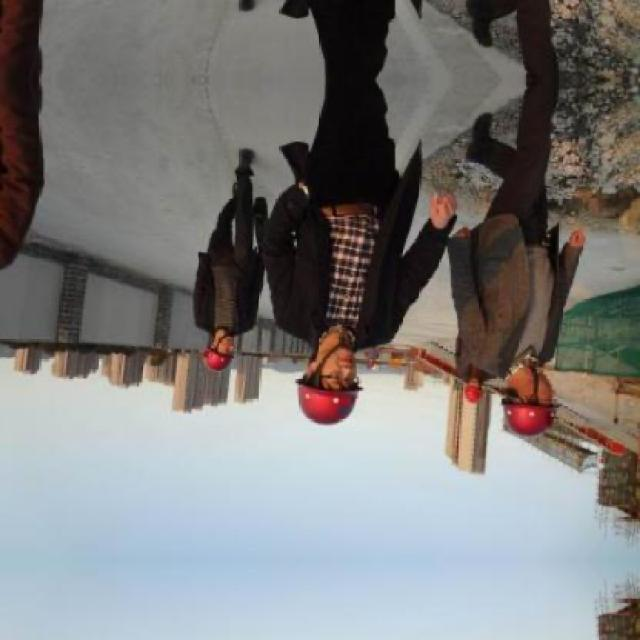sin casco: (481, 343, 599, 453), (295, 322, 370, 428), (181, 326, 243, 384)
